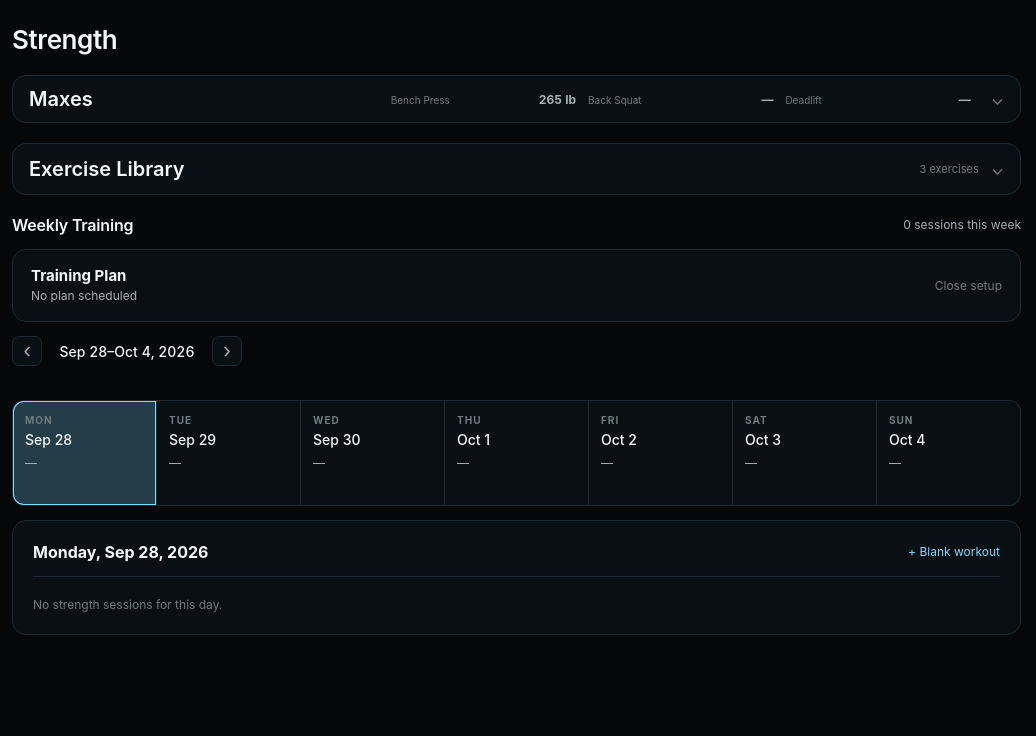
Test: StrengthPage › renders maxes and expands or collapses the exercise library disclosure
The width and height of the screenshot is (1036, 736).
Check: the text "Bench Press" is shown, box [391,94,450,106]
Check: the text "Back Squat" is shown, box [588,94,642,106]
Click the button "Maxes": click(61, 99) [12,75,1021,123]
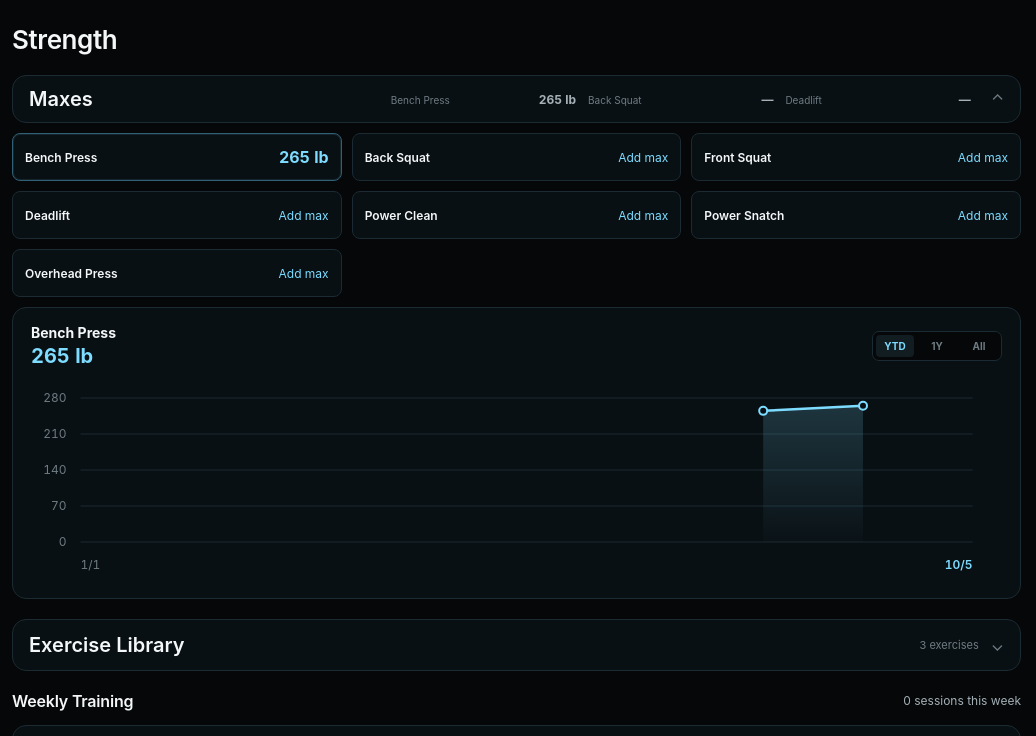
Check: the button "Maxes" is expanded
Check: the button "265 lb" is shown, box [279,147,329,167]
Check: the number of buttons "Add max" is 6, box [618,150,668,164]; [958,150,1008,164]; [278,208,329,222]; [618,208,668,222]; [958,208,1008,222]; [278,266,329,280]
Click the button "Maxes": click(61, 99) [12,75,1021,123]
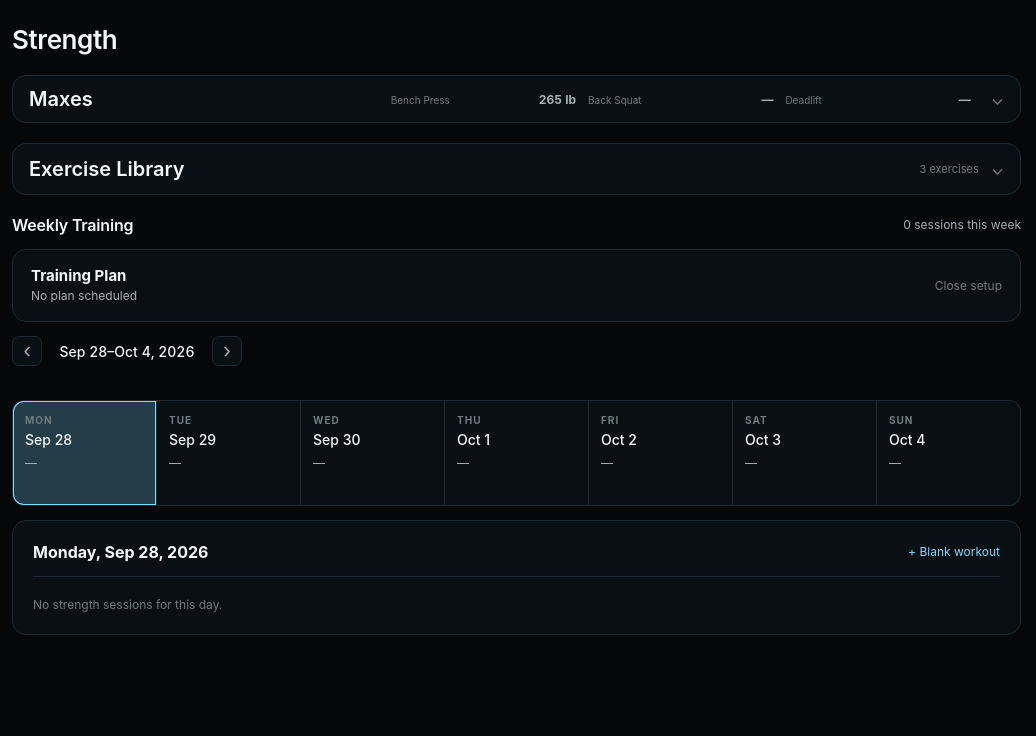
Check: the search field labelled "Search exercises" is not shown
Check: the button "Maxes" is collapsed, box [12,75,1021,123]
Click the button with aria-label "Exercise Library, 3 exercises": click(107, 169) [12,143,1021,195]
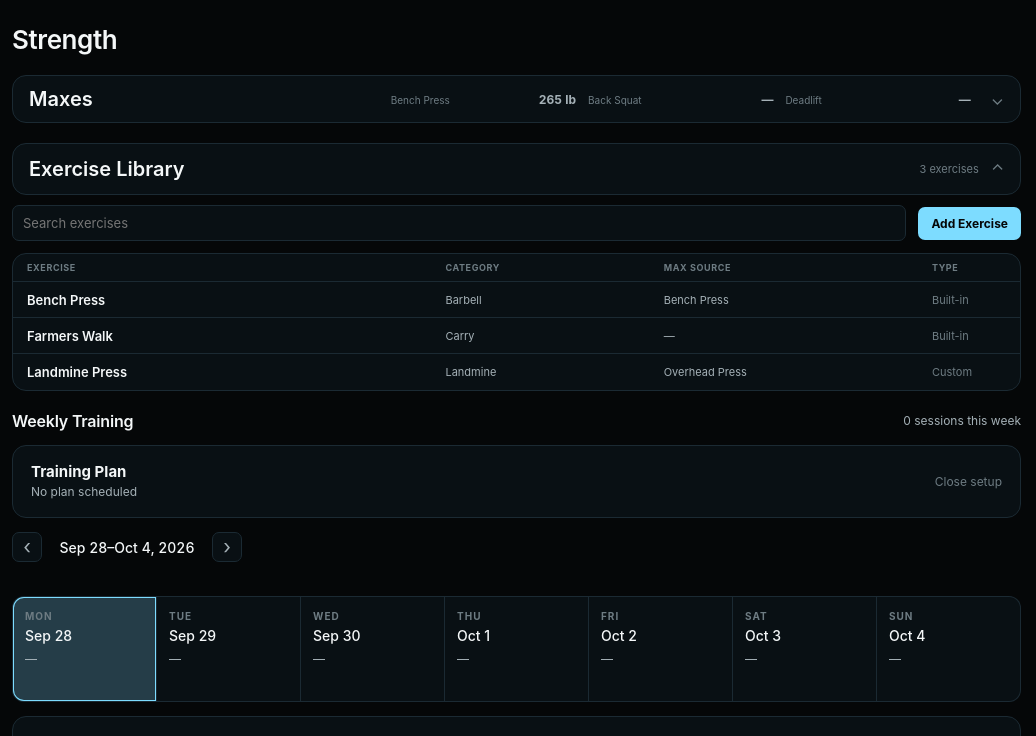
Check: the button with aria-label "Exercise Library, 3 exercises" is expanded
Check: the text "Farmers Walk" is shown, box [27,328,113,344]
Check: the text "Landmine Press" is shown, box [27,364,127,380]
Click the button with aria-label "Exercise Library, 3 exercises": click(107, 169) [12,143,1021,195]
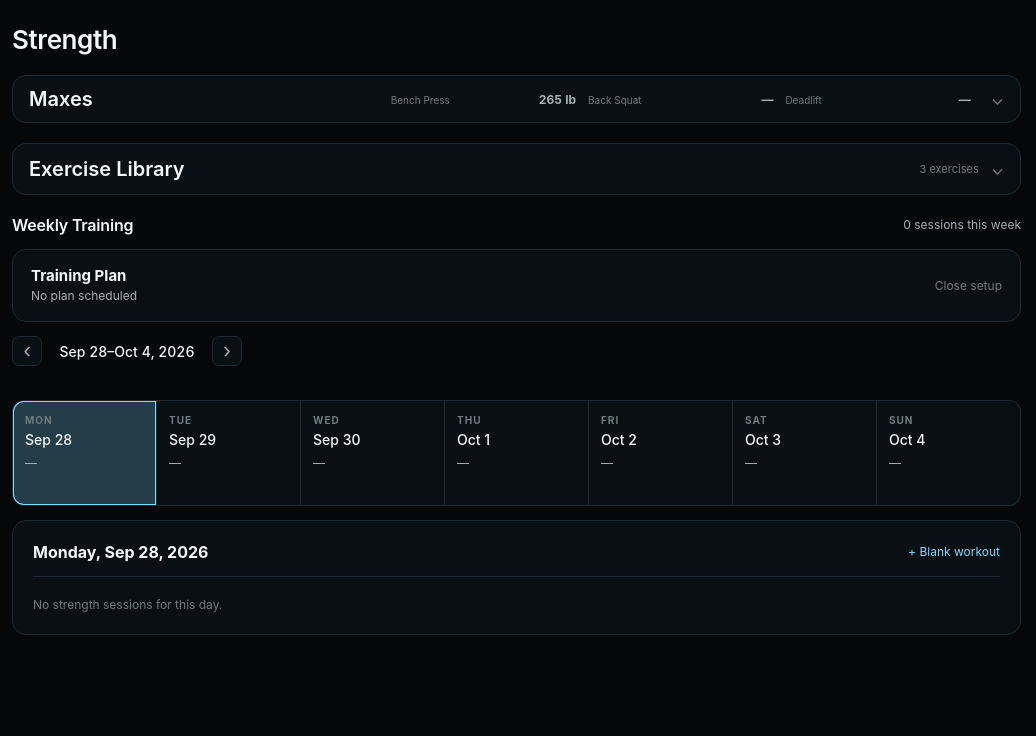
Check: the button with aria-label "Exercise Library, 3 exercises" is collapsed, box [12,143,1021,195]
Check: the text "Farmers Walk" is gone
